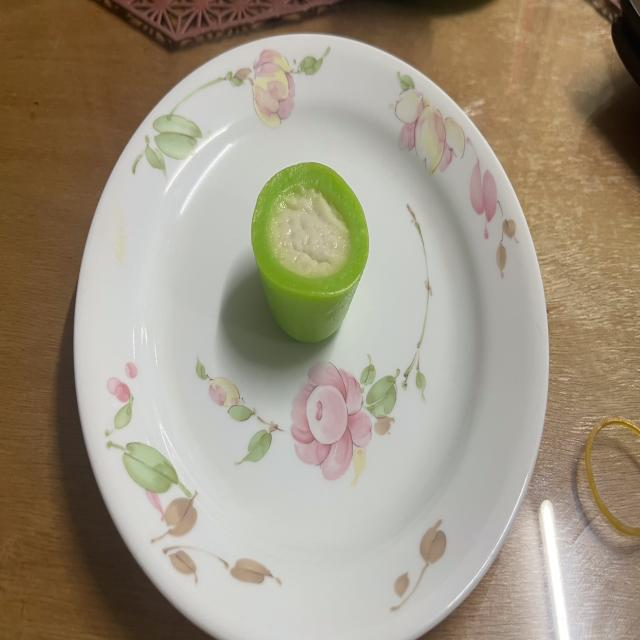nona-manis: (251, 162, 369, 342)
